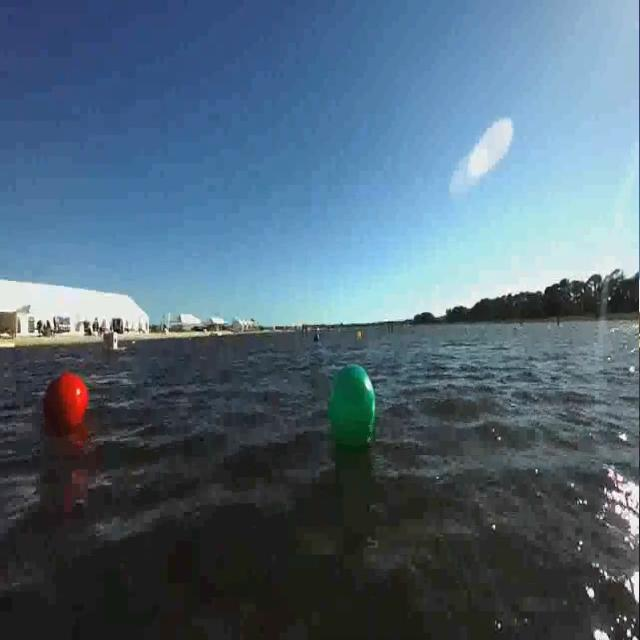blue-buoy: (314, 334, 320, 344)
green-buoy: (328, 362, 379, 456)
red-buoy: (43, 373, 90, 427)
yellow-buoy: (357, 330, 362, 341)
